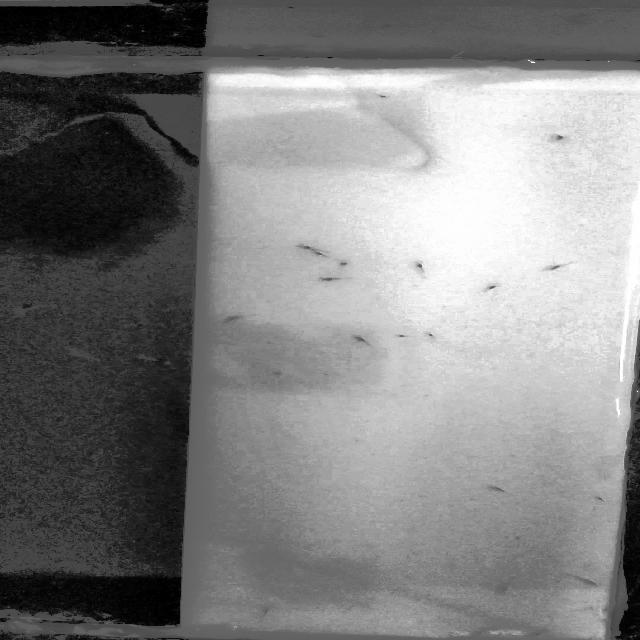shrimp: (490, 484, 520, 496), (222, 315, 258, 324), (415, 262, 434, 279), (548, 261, 572, 274), (573, 573, 596, 586), (292, 242, 318, 253), (354, 335, 374, 349), (484, 281, 506, 293), (547, 131, 567, 143), (319, 275, 351, 282), (499, 580, 516, 593), (256, 606, 273, 618), (372, 93, 396, 101), (314, 250, 332, 260), (596, 496, 613, 506), (469, 630, 487, 637), (336, 259, 354, 266), (396, 334, 416, 340), (532, 629, 546, 636), (424, 333, 440, 339), (272, 370, 283, 376)
